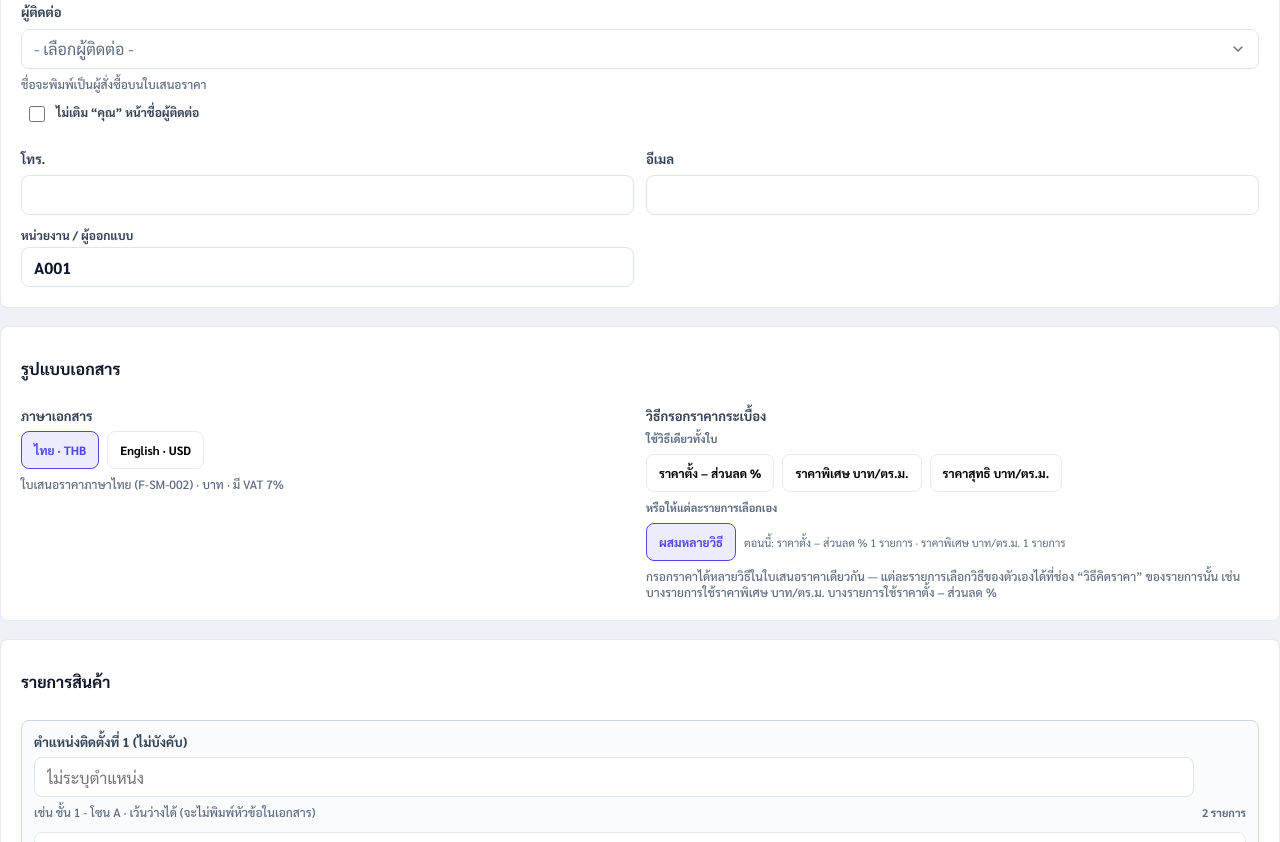
Test: where mixing is not offered › switching a mixed document to English moves it to one mode for the whole document, and says so
(page scrolled)
Expected: the element named "วิธีกรอกราคากระเบื้อง" is shown, [646,431,1066,561]
Click the button "English · USD" at {"x": 156, "y": 450}, box [107,431,204,469]
(page scrolled)
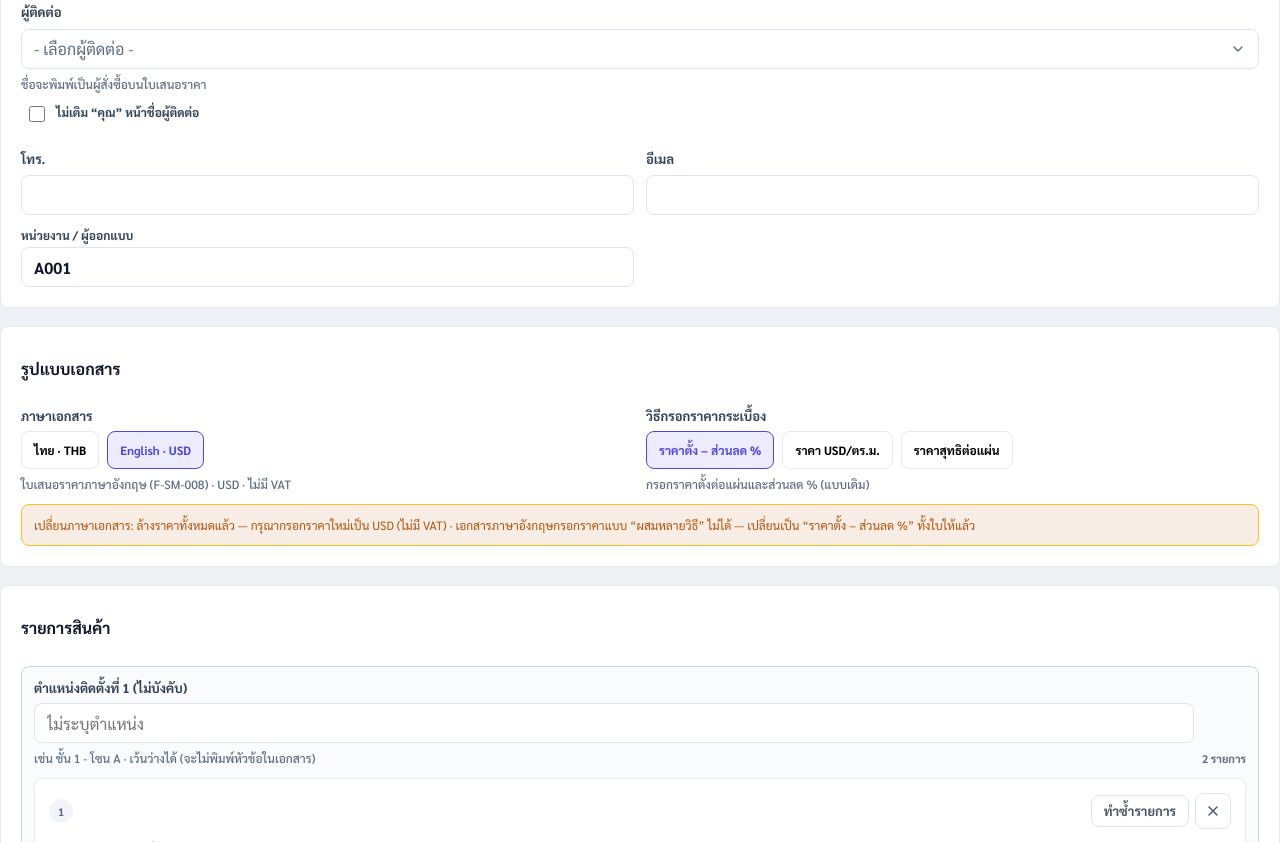
Expected: the button "ผสมหลายวิธี" is not shown
Expected: the text "เปลี่ยนภาษาเอกสาร" shows "ผสมหลายวิธี", [34,517,975,533]
Expected: the text "เปลี่ยนภาษาเอกสาร" shows "ราคาตั้ง − ส่วนลด %", [34,517,975,533]
